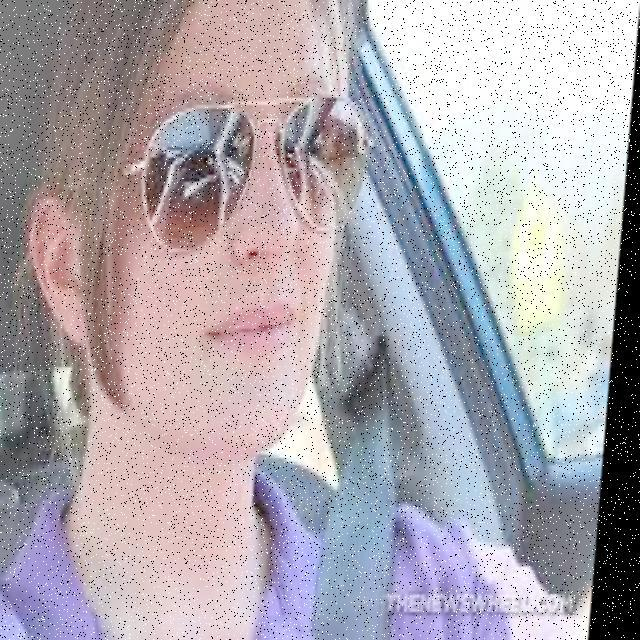seatbelt: (79, 445, 496, 639)
